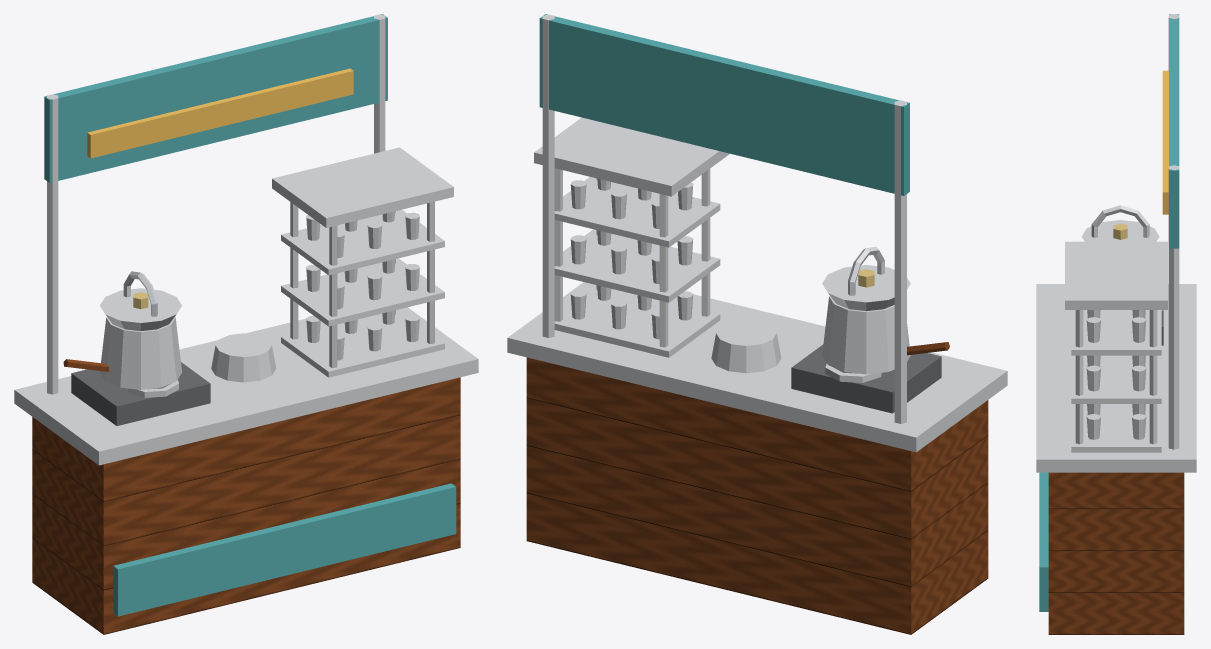
The model's file is indian-bazaar-street-and-temple-tea-stall-865b528a.glb.
3 renders of one model, left to right at view 1: azimuth 30°, elevation 25°; view 2: azimuth 150°, elevation 25°; view 3: azimuth 270°, elevation 25°, orthographic. The views are drawn at different scales.
Visible parts, largest first — view 1: tea-stall-steel, tea-stall-timber, tea-stall-teal, tea-stall-saffron, tea-stall-charcoal; view 2: tea-stall-timber, tea-stall-steel, tea-stall-teal, tea-stall-charcoal; view 3: tea-stall-steel, tea-stall-timber, tea-stall-teal, tea-stall-saffron.
Boxes of the visible parts, x1,y1,x2,y2 form: tea-stall-steel: [14, 14, 478, 465]; tea-stall-timber: [32, 359, 460, 634]; tea-stall-teal: [44, 14, 456, 616]; tea-stall-saffron: [87, 68, 353, 158]; tea-stall-charcoal: [71, 362, 210, 425]; tea-stall-timber: [526, 342, 988, 634]; tea-stall-steel: [507, 14, 1007, 452]; tea-stall-teal: [539, 14, 909, 195]; tea-stall-charcoal: [791, 344, 941, 413]; tea-stall-steel: [1036, 14, 1196, 472]; tea-stall-timber: [1048, 472, 1184, 634]; tea-stall-teal: [1039, 14, 1179, 611]; tea-stall-saffron: [1162, 70, 1168, 214].
Bounding box in the file's own units: 2.02 × 2.47 × 0.78.
6 materials, 1 textured.
